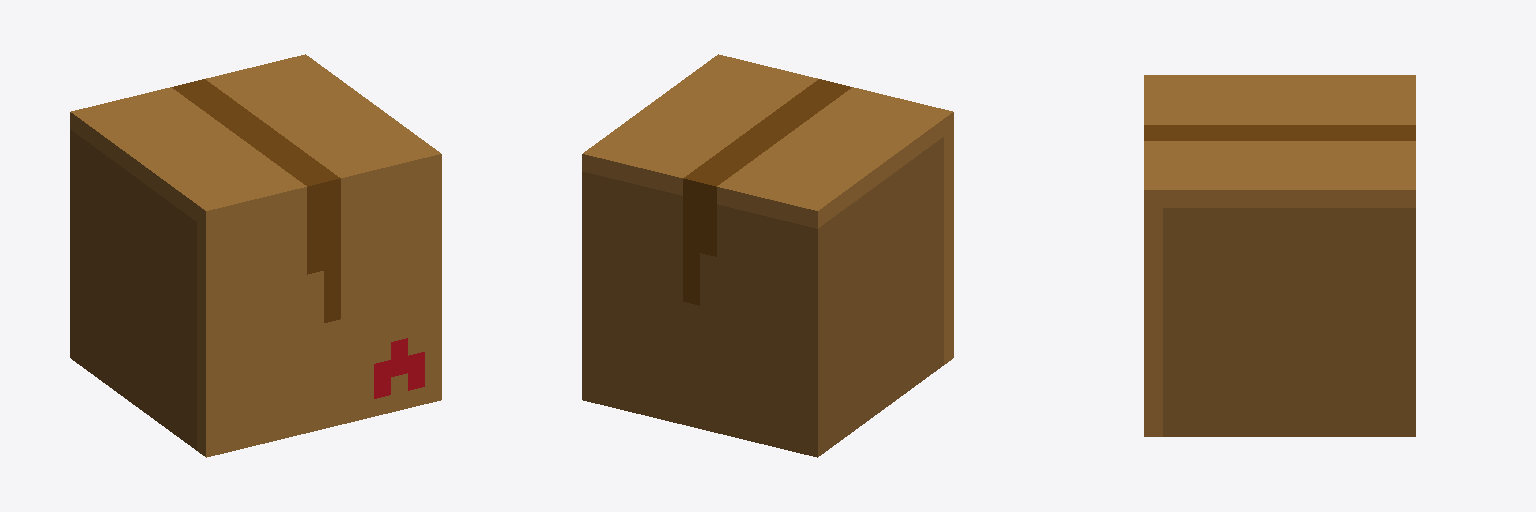
The picture shows the model from 3 angles: view 1: azimuth 30°, elevation 25°; view 2: azimuth 150°, elevation 25°; view 3: azimuth 270°, elevation 25°; orthographic projection.
Visible parts, largest first — view 1: Model; view 2: Model; view 3: Model.
Part boxes in pixels (bbox=[...]): Model: bbox=[70, 54, 441, 457]; Model: bbox=[582, 54, 953, 457]; Model: bbox=[1144, 75, 1415, 436].
Size of the model in its own units: 28 by 28 by 28.
Materials: 1 (1 with a texture image).